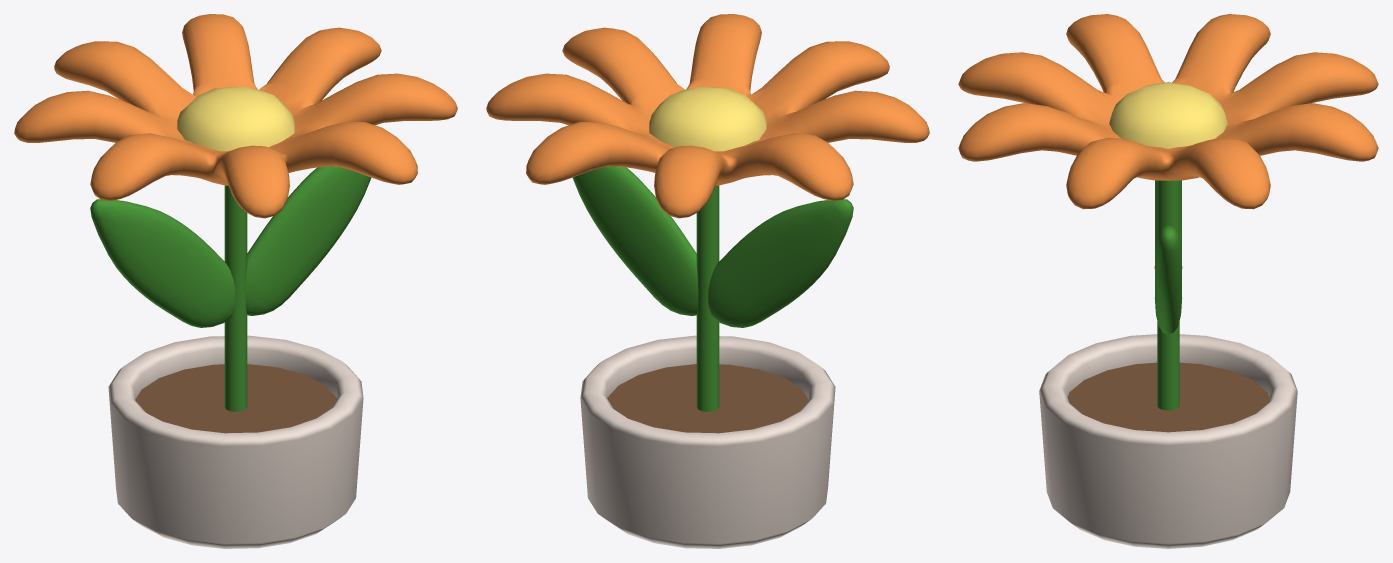
The model's file is Flower_7.glb.
The picture shows the model from 3 angles, left to right: view 1: azimuth 30°, elevation 25°; view 2: azimuth 150°, elevation 25°; view 3: azimuth 270°, elevation 25°; orthographic projection.
Parts seen in each view (by area): view 1: Flower_6; view 2: Flower_6; view 3: Flower_6.
Part boxes in pixels (<box>): Flower_6: <box>14,14,457,548</box>; Flower_6: <box>486,14,929,548</box>; Flower_6: <box>958,14,1378,548</box>.
Bounding box in the file's own units: 0.5112 × 0.5631 × 0.5112.
1 material, 1 textured.
